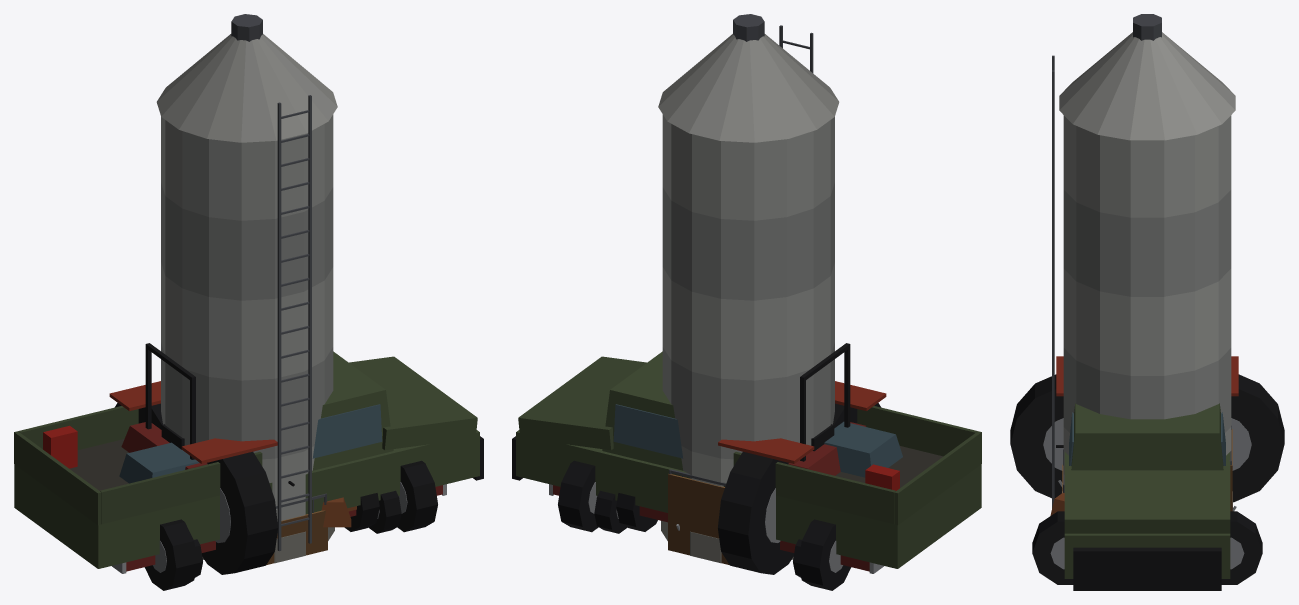
Rendered from furniture.glb.
The picture shows the model from 3 angles, left to right: view 1: azimuth 30°, elevation 25°; view 2: azimuth 150°, elevation 25°; view 3: azimuth 270°, elevation 25°; orthographic projection.
Parts seen in each view (by area): view 1: silo, truck, tractor, car, bed; view 2: silo, truck, tractor, bed, car; view 3: silo, truck, tractor.
Boxes of the visible parts, bbox=[...] form: silo: bbox=[156, 14, 351, 563]; truck: bbox=[14, 351, 483, 590]; tractor: bbox=[109, 343, 379, 574]; car: bbox=[112, 422, 446, 577]; bed: bbox=[266, 510, 327, 565]; silo: bbox=[658, 14, 839, 563]; truck: bbox=[512, 351, 981, 590]; tractor: bbox=[616, 343, 886, 574]; bed: bbox=[668, 474, 729, 565]; car: bbox=[549, 422, 883, 577]; silo: bbox=[1050, 14, 1235, 515]; truck: bbox=[1032, 403, 1262, 590]; tractor: bbox=[1010, 356, 1284, 502].
Bounding box in the file's own units: 5.12 × 6.46 × 3.14.
